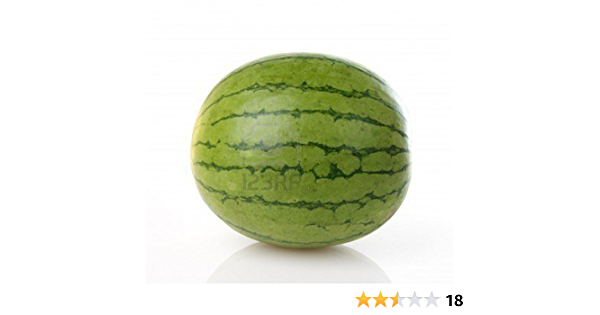watermelon: (189, 52, 412, 249)
